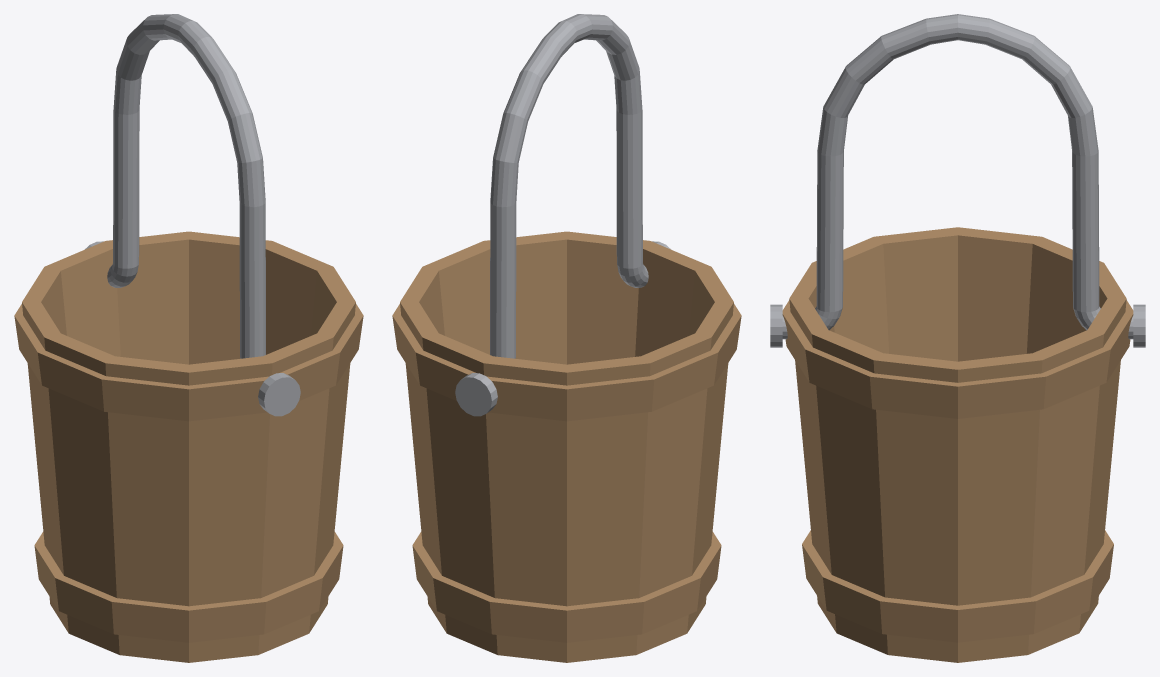
The model's file is bucket.glb.
3 renders of one model, left to right at view 1: azimuth 30°, elevation 25°; view 2: azimuth 150°, elevation 25°; view 3: azimuth 270°, elevation 25°, orthographic.
Visible parts, largest first — view 1: Bucket.001; view 2: Bucket.001; view 3: Bucket.001.
Part boxes in pixels (box(x1,y1,x2,y2)): Bucket.001: box(14, 14, 363, 662); Bucket.001: box(392, 14, 741, 662); Bucket.001: box(770, 14, 1145, 662).
Size of the model in its own units: 0.1891 by 0.3482 by 0.201.
